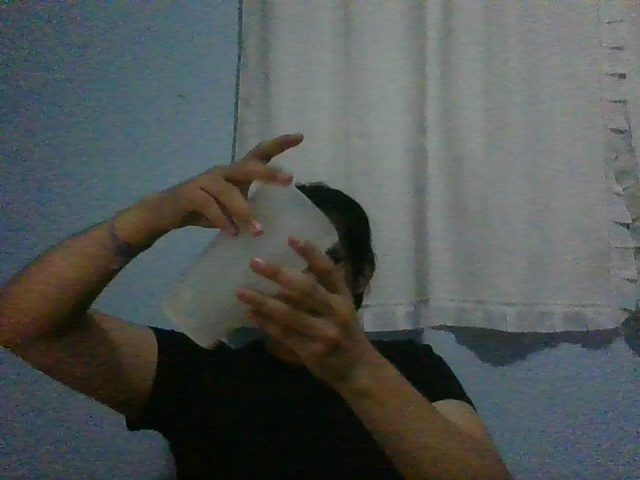vaso: (159, 181, 339, 350)
